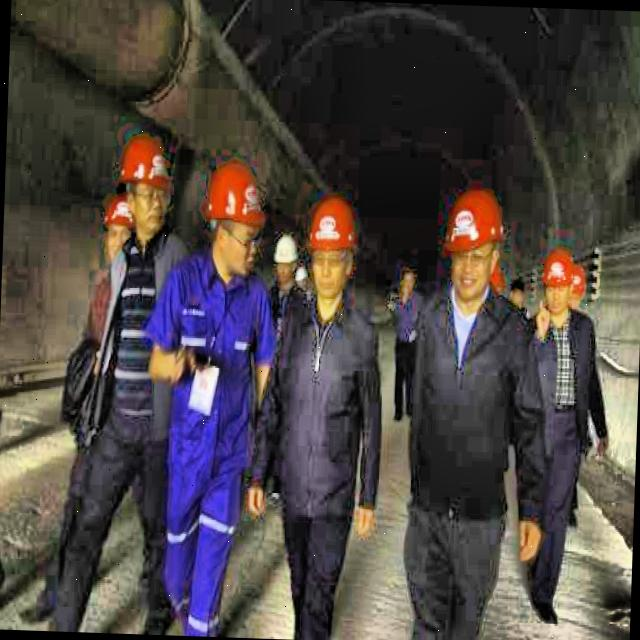helmet: (198, 154, 268, 280), (441, 186, 500, 304), (304, 188, 358, 311), (119, 128, 174, 239), (540, 248, 578, 315), (100, 192, 136, 262), (268, 229, 298, 285)
